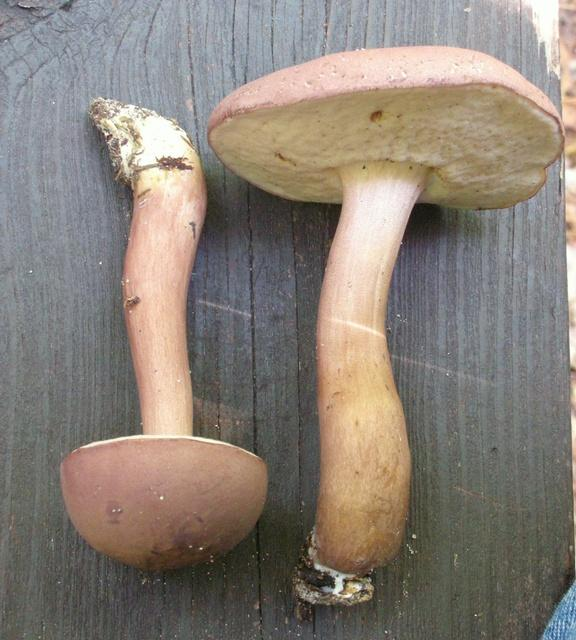Non-edible Mushroom: (205, 43, 565, 610), (47, 64, 301, 598)
